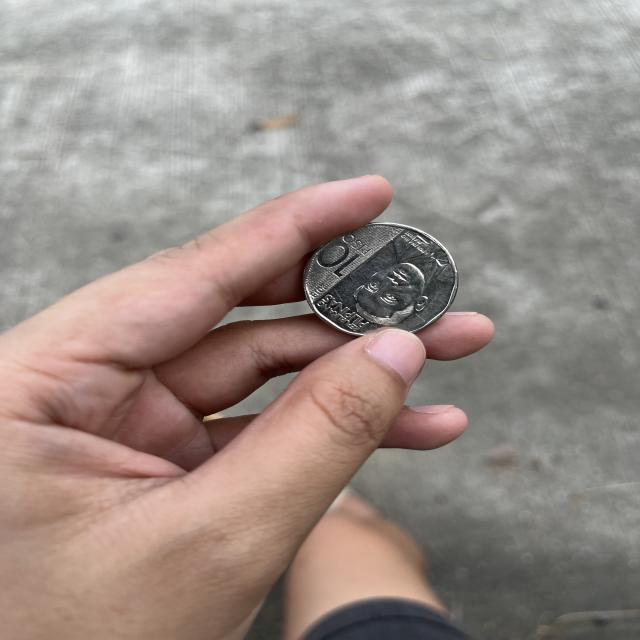10_New_Front: (307, 229, 377, 280)
